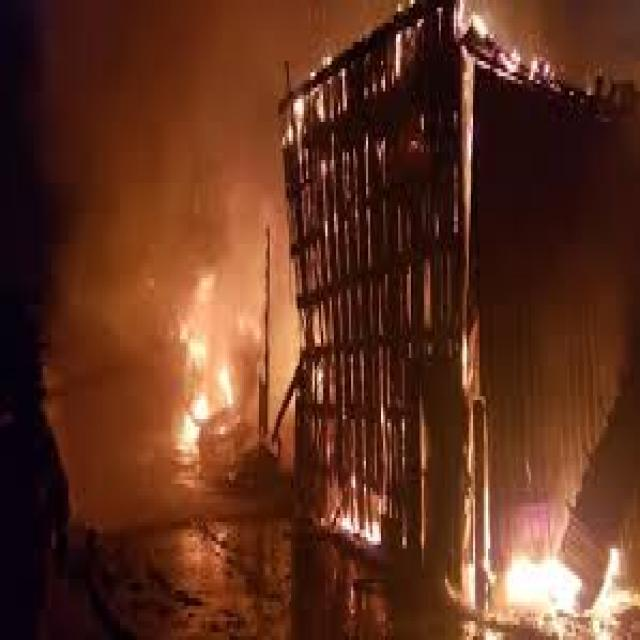Fire: (277, 24, 636, 640), (152, 241, 278, 504)
